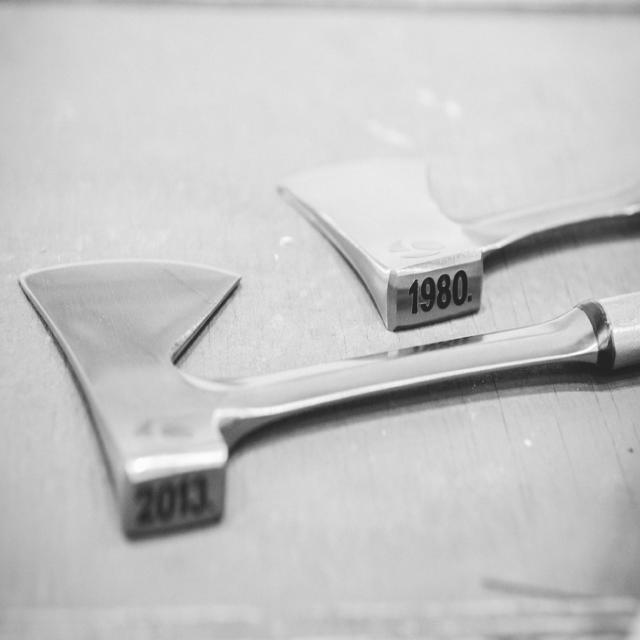Axe: (20, 261, 640, 535), (279, 159, 640, 329)
